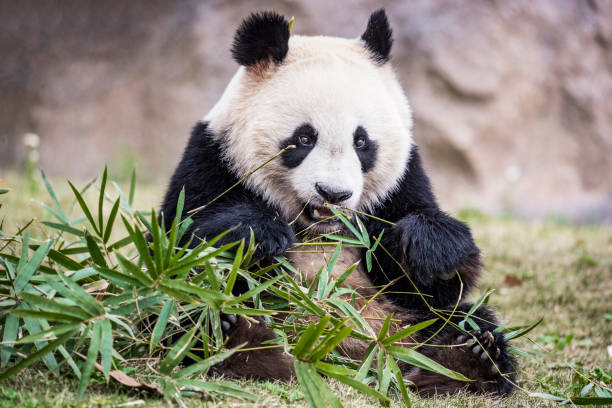panda: (152, 10, 460, 251)
